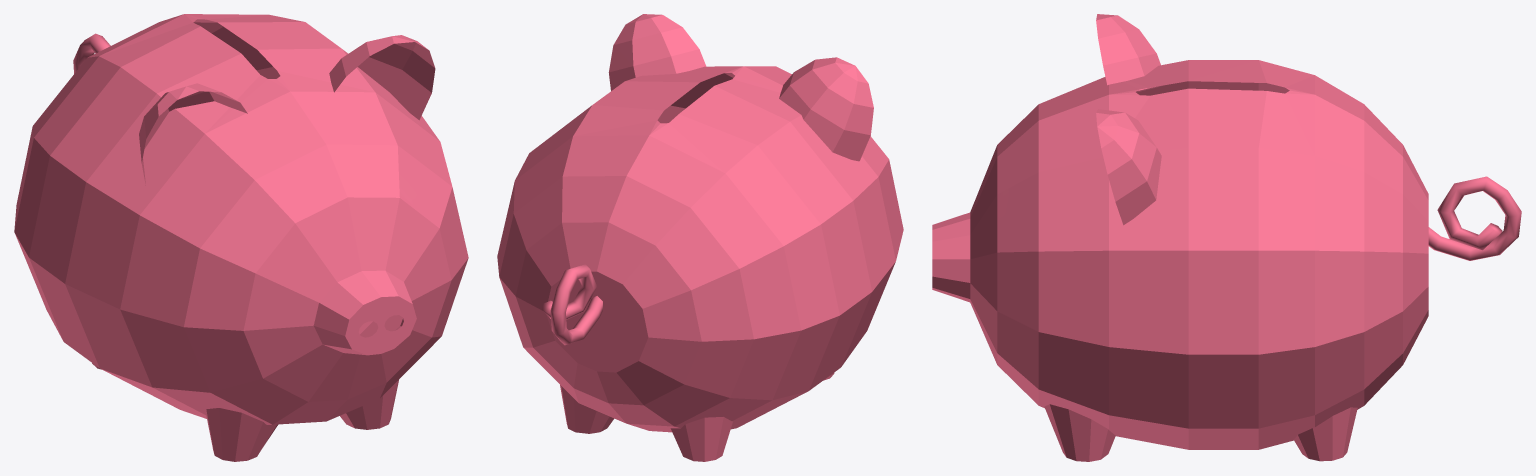
The model's file is Piggy Bank.fbx.
3 views of the same model, side by side, from view 1: azimuth 30°, elevation 25°; view 2: azimuth 150°, elevation 25°; view 3: azimuth 270°, elevation 25° (orthographic). The views are drawn at different scales.
Visible parts, largest first — view 1: Piggy Bank; view 2: Piggy Bank; view 3: Piggy Bank.
Boxes of the visible parts, x1,y1,x2,y2 form: Piggy Bank: (14,14,468,461); Piggy Bank: (497,14,903,461); Piggy Bank: (932,14,1521,461).
Bounding box in the file's own units: 24.53 × 23.78 × 34.95.
